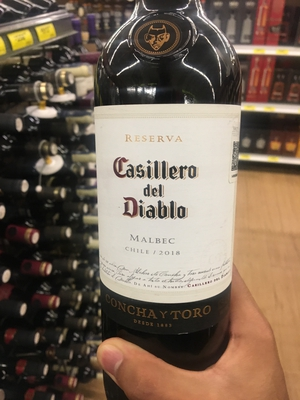casillero del diablo malbec: (90, 12, 242, 400)
